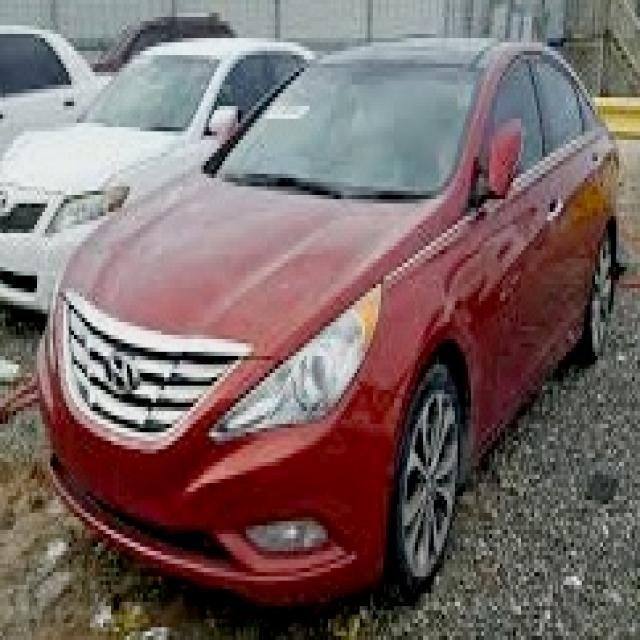maroon: (34, 29, 623, 626)
